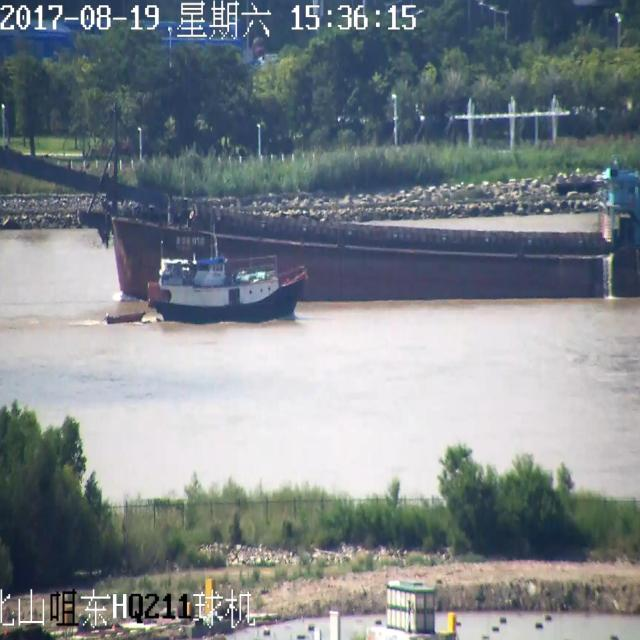cargoship: (0, 113, 640, 332), (124, 231, 308, 348)
